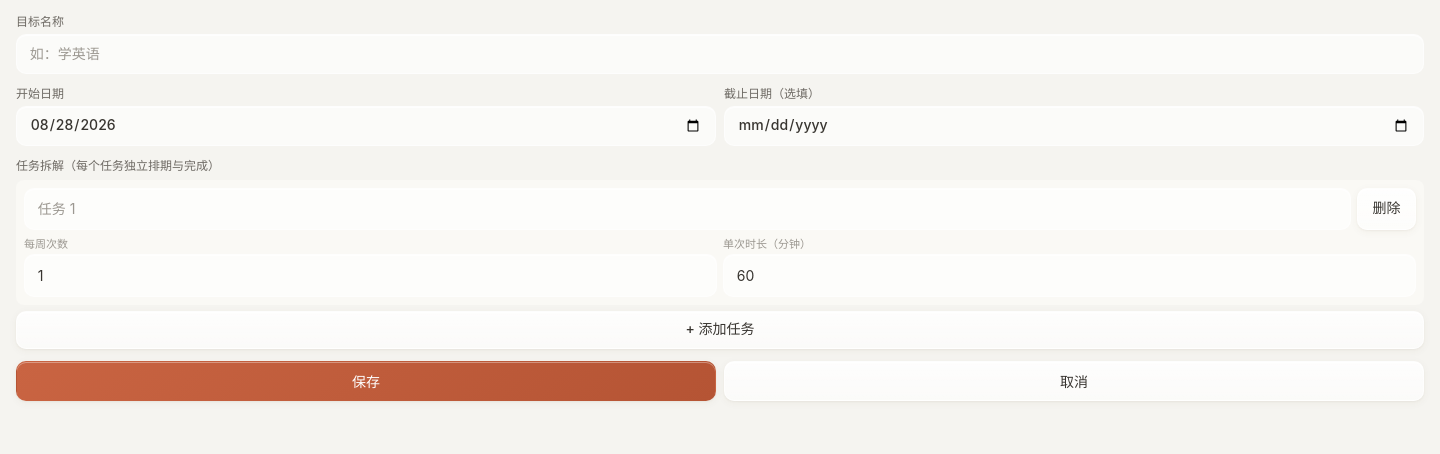
GoalForm › 校验：任务名不能为空
Step 1. Type "学英语" into the field labelled "目标名称" → [720, 54], box left=16, top=34, right=1424, bottom=74
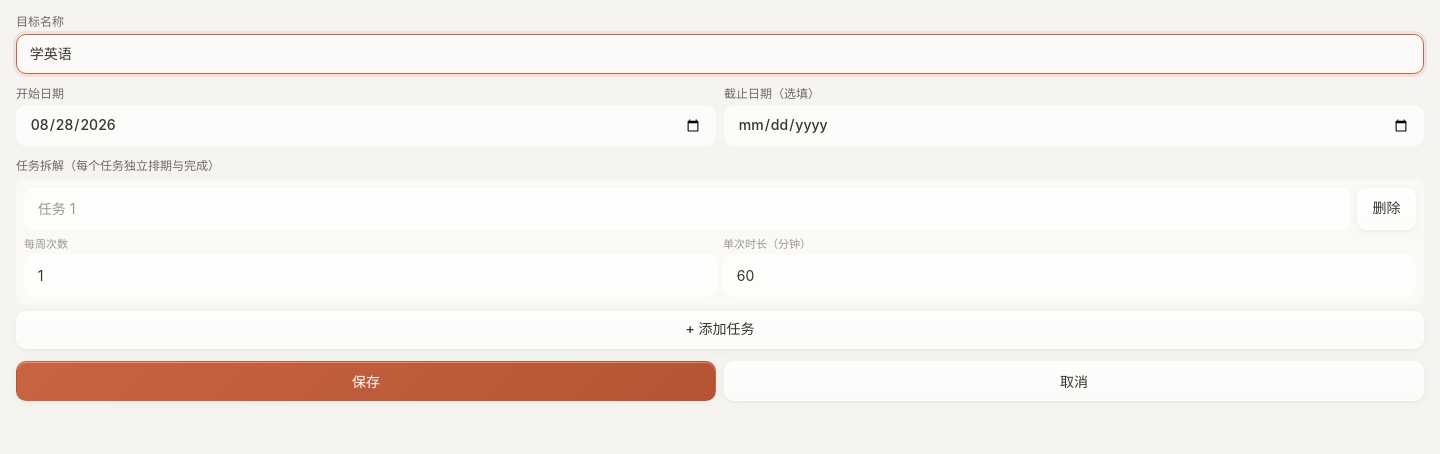
Step 2. Click the button "保存" → [366, 381], box left=16, top=361, right=716, bottom=401
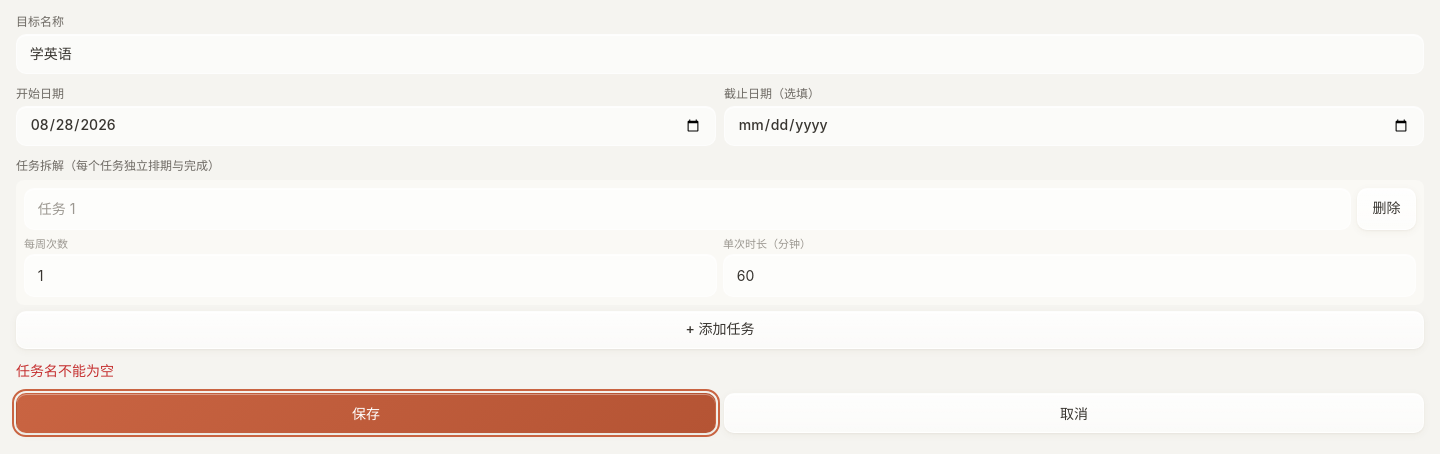
expect the text with test id "goal-form-error" reads "任务名不能为空": met, box left=16, top=362, right=114, bottom=379
